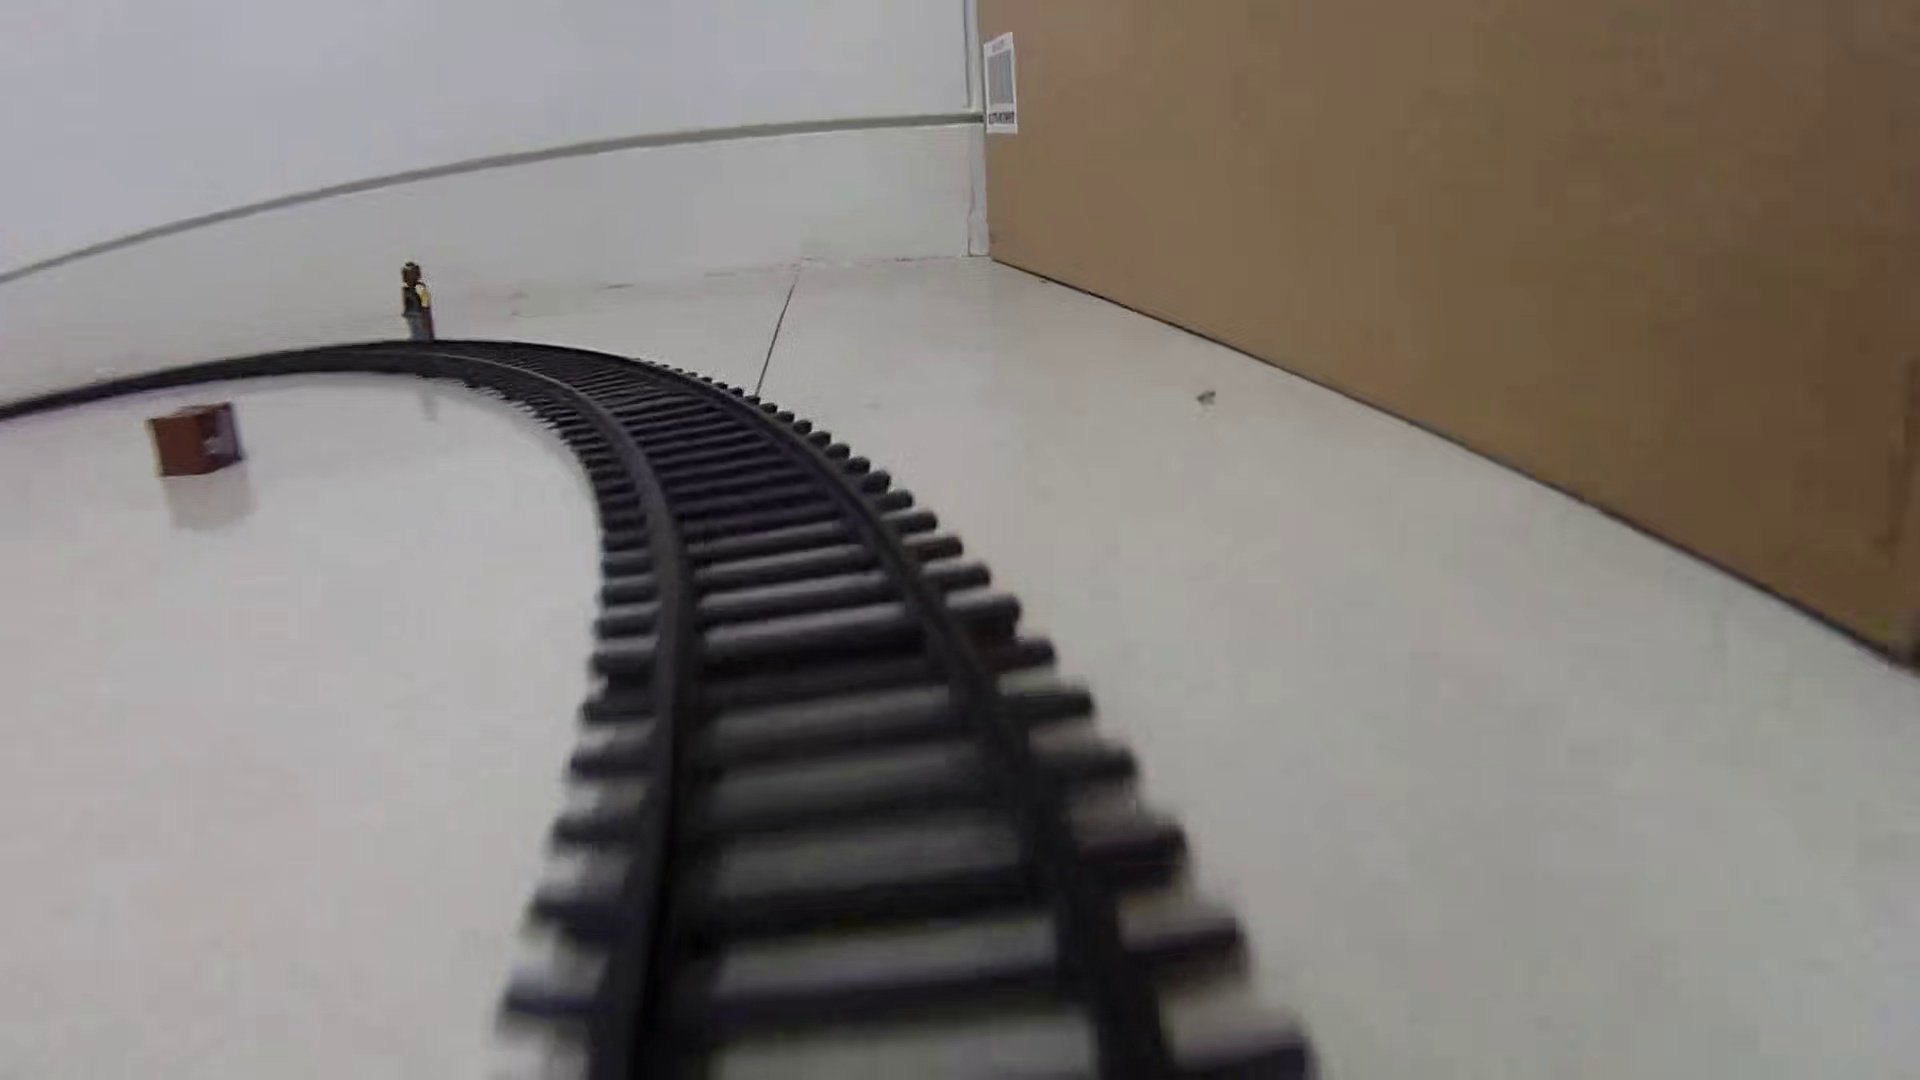box: (146, 398, 248, 480)
people: (397, 258, 439, 357)
